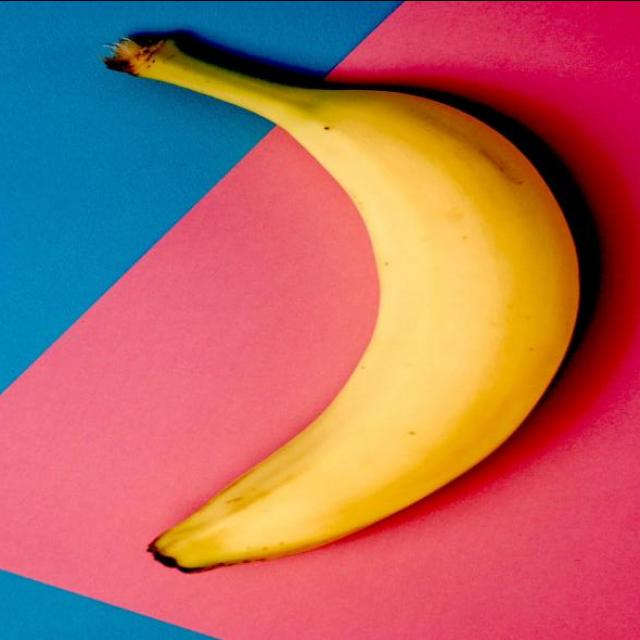banana: (108, 36, 606, 582)
